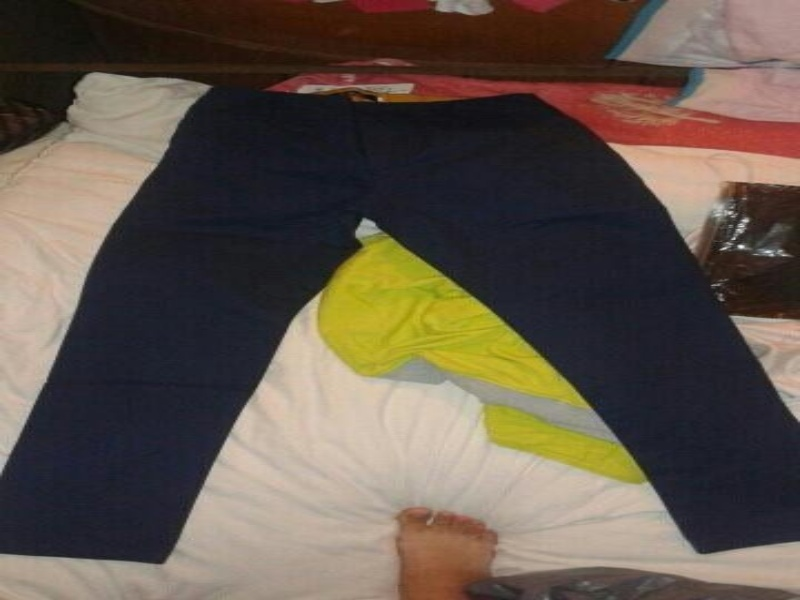trousers: (0, 77, 796, 572)
